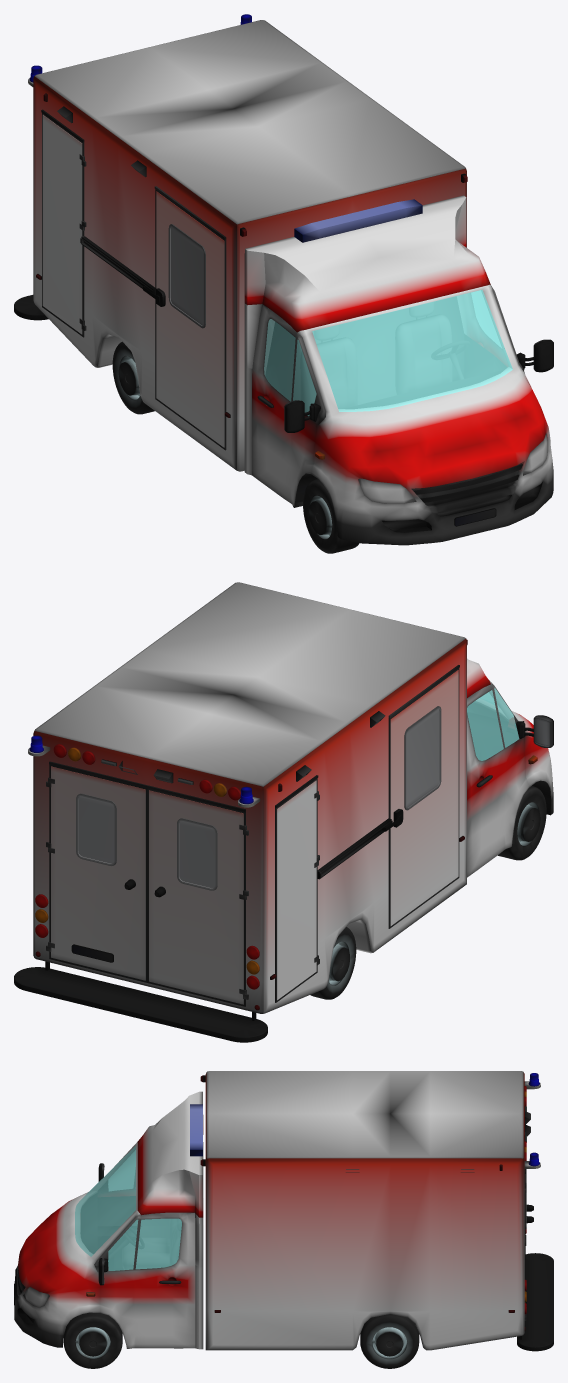
The picture shows the model from 3 angles, top to bottom: view 1: azimuth 30°, elevation 25°; view 2: azimuth 150°, elevation 25°; view 3: azimuth 270°, elevation 25°; orthographic projection. The views are drawn at different scales.
Parts seen in each view (by area): view 1: body, glass, interior, wheel_FL, wheel_RL; view 2: body, glass, wheel_FL, interior, wheel_RL; view 3: body, glass, interior, wheel_FR, wheel_RR.
Part boxes in pixels (x1,y1,x2,y2): body: (14, 14, 553, 545); glass: (264, 289, 512, 416); interior: (265, 297, 506, 415); wheel_FL: (303, 479, 359, 553); wheel_RL: (112, 341, 154, 414); body: (14, 582, 553, 1042); glass: (467, 688, 519, 760); wheel_FL: (498, 786, 546, 860); interior: (467, 702, 518, 760); wheel_RL: (310, 927, 356, 999); body: (14, 1071, 553, 1351); glass: (75, 1146, 181, 1270); interior: (81, 1193, 181, 1270); wheel_FR: (63, 1312, 122, 1368); wheel_RR: (360, 1314, 419, 1368).
Size of the model in its own units: 2.95 by 2.92 by 6.6.
